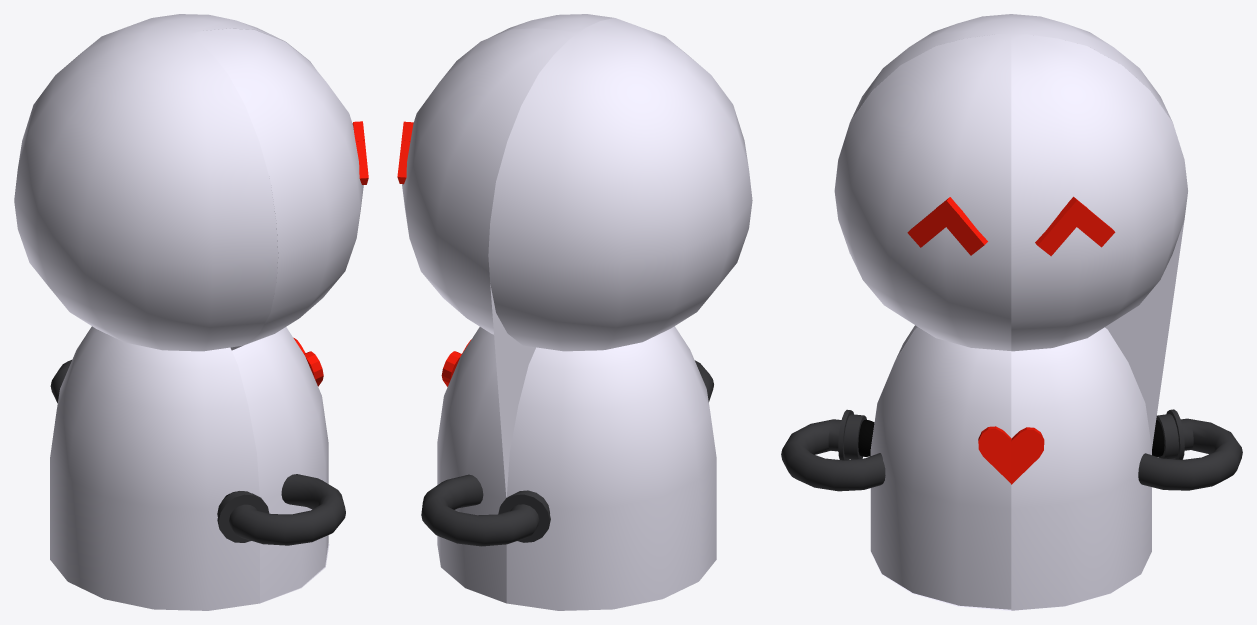
Rendered from WCCA1.fbx.
3 renders of one model, left to right at view 1: azimuth 30°, elevation 25°; view 2: azimuth 150°, elevation 25°; view 3: azimuth 270°, elevation 25°, orthographic.
Parts seen in each view (by area): view 1: Vert, Vert.001, Cylinder.005, Vert.002, Cube.001; view 2: Vert, Vert.002, Cylinder.004, Vert.001, Cube.002; view 3: Vert.002, Vert.001, Vert, Cylinder.004, Cylinder.005, Cube.001, Cube.002, Cube.003, Cube.004.
Part boxes in pixels (<box>): Vert: <box>14,18,329,610</box>; Vert.001: <box>189,28,363,603</box>; Cylinder.005: <box>217,474,345,545</box>; Vert.002: <box>152,14,314,67</box>; Cube.001: <box>352,121,368,184</box>; Vert: <box>437,18,752,610</box>; Vert.002: <box>402,28,576,603</box>; Cylinder.004: <box>421,474,550,546</box>; Vert.001: <box>488,14,613,38</box>; Cube.002: <box>397,121,413,184</box>; Vert.002: <box>1011,34,1187,610</box>; Vert.001: <box>834,34,1011,609</box>; Vert: <box>834,14,1184,610</box>; Cylinder.004: <box>1138,409,1242,490</box>; Cylinder.005: <box>781,409,885,491</box>; Cube.001: <box>907,197,987,255</box>; Cube.002: <box>1035,196,1115,256</box>; Cube.003: <box>1011,427,1044,484</box>; Cube.004: <box>978,426,1011,483</box>.
Size of the model in its own units: 250 by 403 by 326.
